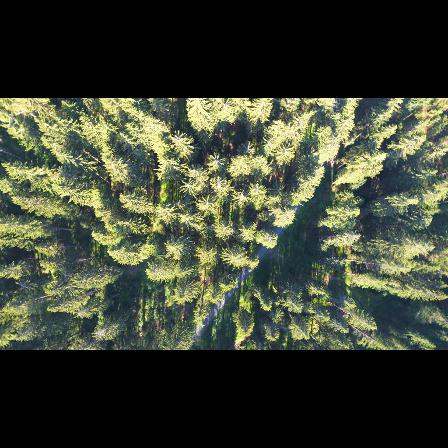Sick: (245, 182, 267, 197), (206, 152, 224, 168)
